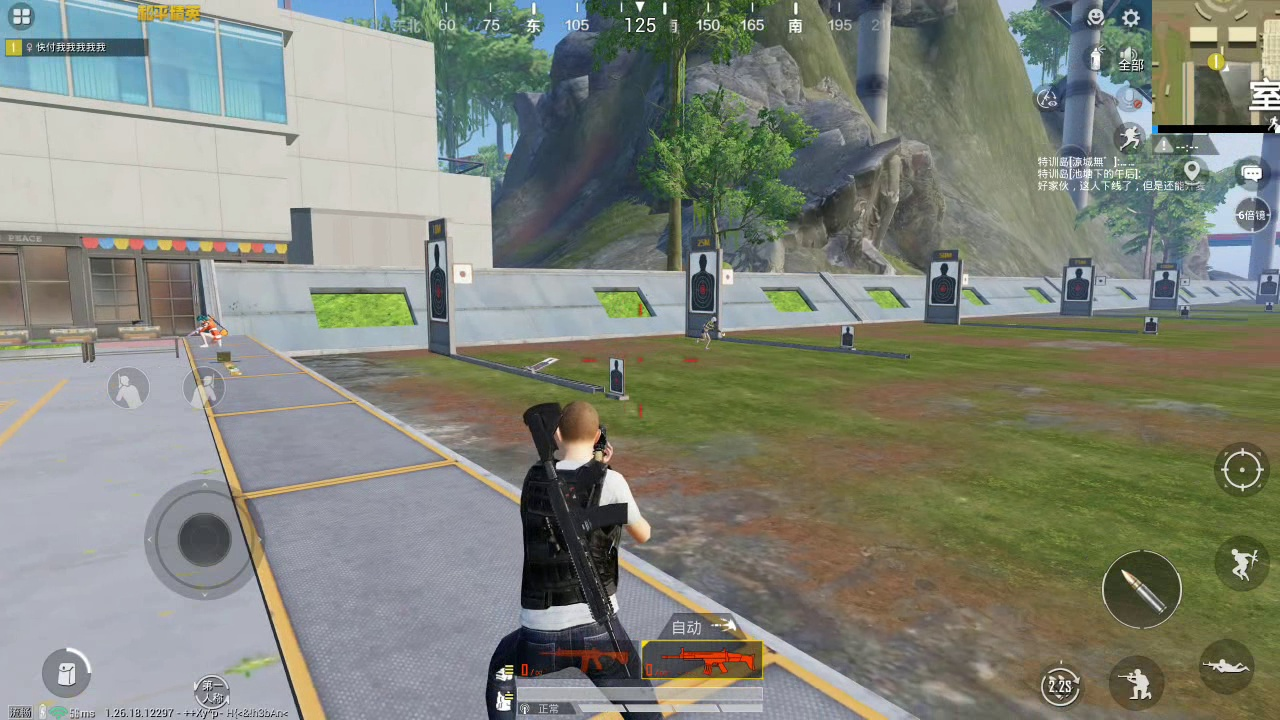enemy: (195, 311, 223, 347), (698, 314, 721, 349)
